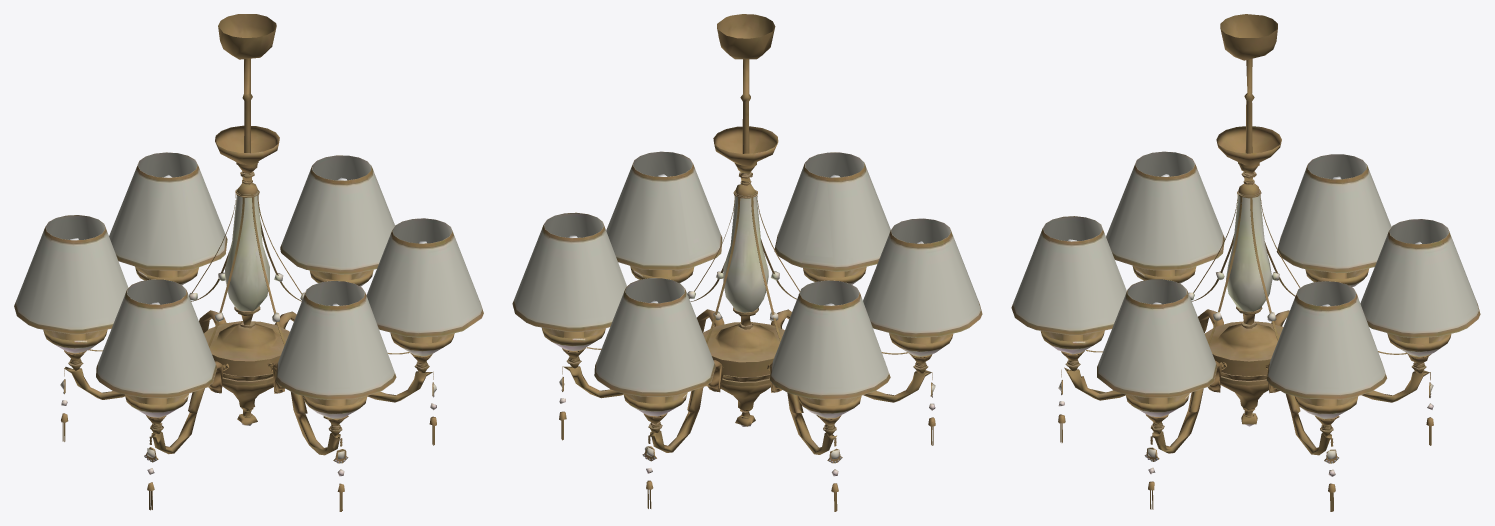
Rendered from Chandelier_01.13d4e3c4.glb.
3 renders of one model, left to right at view 1: azimuth 30°, elevation 25°; view 2: azimuth 150°, elevation 25°; view 3: azimuth 270°, elevation 25°, orthographic.
Parts seen in each view (by area): view 1: Chandelier_01; view 2: Chandelier_01; view 3: Chandelier_01.
Boxes of the visible parts, x1,y1,x2,y2 form: Chandelier_01: (14,14,483,511); Chandelier_01: (512,14,982,511); Chandelier_01: (1011,14,1480,511).
Bounding box in the file's own units: 0.6556 × 0.7047 × 0.72.
Materials: 2 (1 with a texture image).
